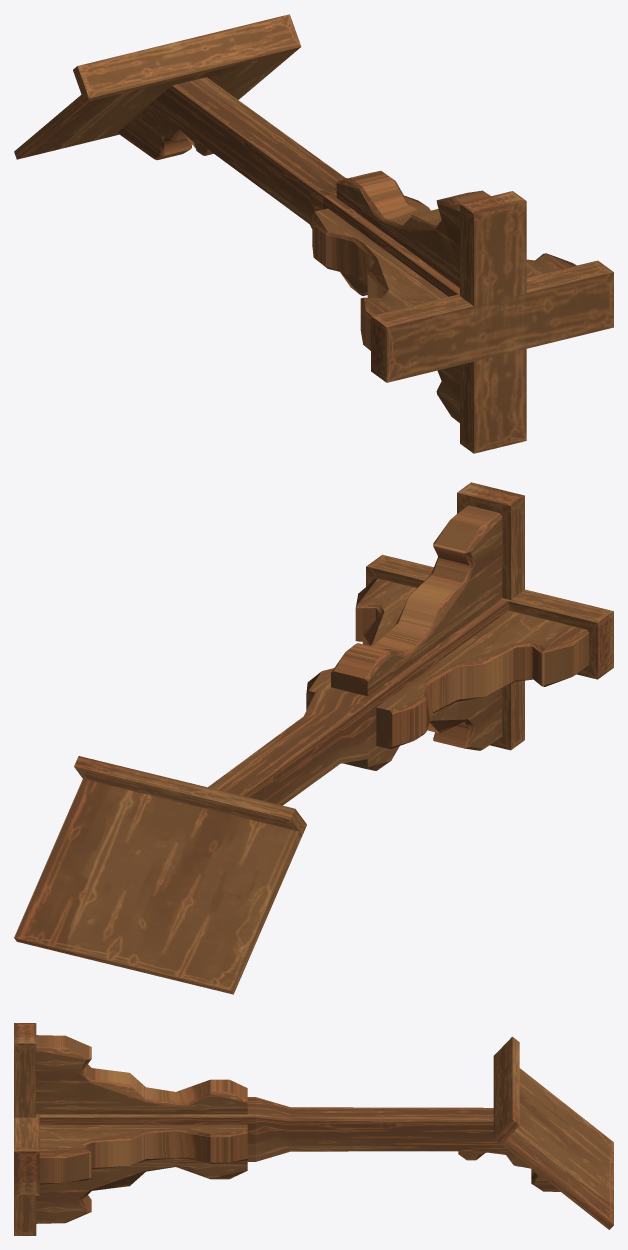
File: fp-book-stand-lod2.glb
3 views of the same model, one above another, from view 1: azimuth 30°, elevation 25°; view 2: azimuth 150°, elevation 25°; view 3: azimuth 270°, elevation 25° (orthographic). The views are drawn at different scales.
Parts seen in each view (by area): view 1: WeaponMesh_fp-book-stand_BookStand; view 2: WeaponMesh_fp-book-stand_BookStand; view 3: WeaponMesh_fp-book-stand_BookStand.
Boxes of the visible parts, x1,y1,x2,y2 form: WeaponMesh_fp-book-stand_BookStand: (14, 14, 613, 453); WeaponMesh_fp-book-stand_BookStand: (14, 482, 613, 994); WeaponMesh_fp-book-stand_BookStand: (14, 1023, 613, 1235).
Size of the model in its own units: 0.2629 by 0.265 by 0.75.
1 material, 1 textured.
